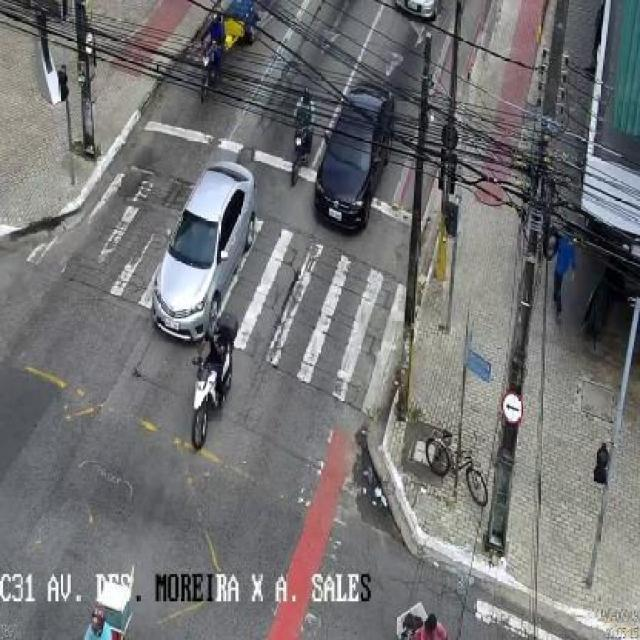Car: (152, 158, 254, 343), (312, 74, 398, 234)
Cycle: (186, 313, 240, 447), (195, 3, 237, 106), (287, 85, 316, 177)
